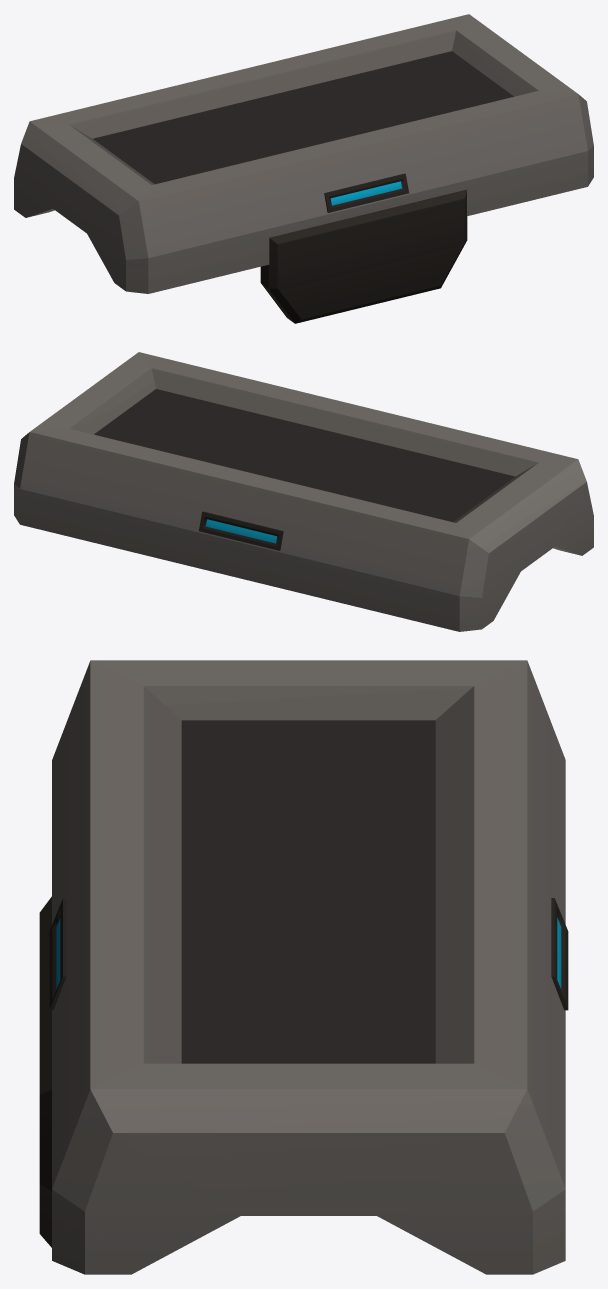
Rendered from Charging_Station_03_Cap.fbx.
The picture shows the model from 3 angles, top to bottom: view 1: azimuth 30°, elevation 25°; view 2: azimuth 150°, elevation 25°; view 3: azimuth 270°, elevation 25°; orthographic projection. The views are drawn at different scales.
Visible parts, largest first — view 1: Scharging_Station_03_Cap; view 2: Scharging_Station_03_Cap; view 3: Scharging_Station_03_Cap.
Boxes of the visible parts, x1,y1,x2,y2 form: Scharging_Station_03_Cap: [14, 14, 593, 323]; Scharging_Station_03_Cap: [14, 352, 593, 631]; Scharging_Station_03_Cap: [39, 660, 568, 1274].
Size of the model in its own units: 34.54 by 10.69 by 16.89.
